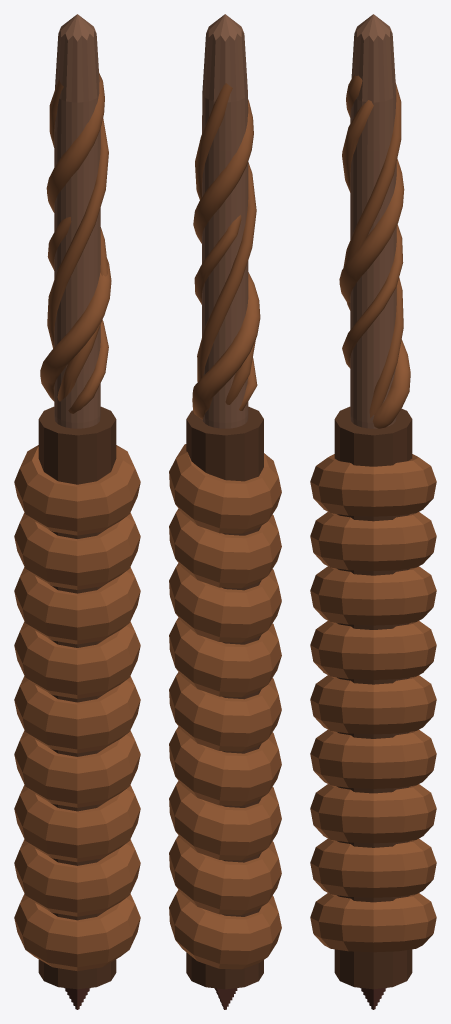
File: Wand 474.glb
3 views of the same model, side by side, from view 1: azimuth 90°, elevation 25°; view 2: azimuth 150°, elevation 25°; view 3: azimuth 270°, elevation 25° (orthographic).
Parts seen in each view (by area): view 1: GeneratedWand; view 2: GeneratedWand; view 3: GeneratedWand.
Part boxes in pixels (x1,y1,x2,y2): GeneratedWand: (14,14,140,1009); GeneratedWand: (169,14,281,1009); GeneratedWand: (310,14,436,1009).
Size of the model in its own units: 0.0497 by 0.5043 by 0.0581.
